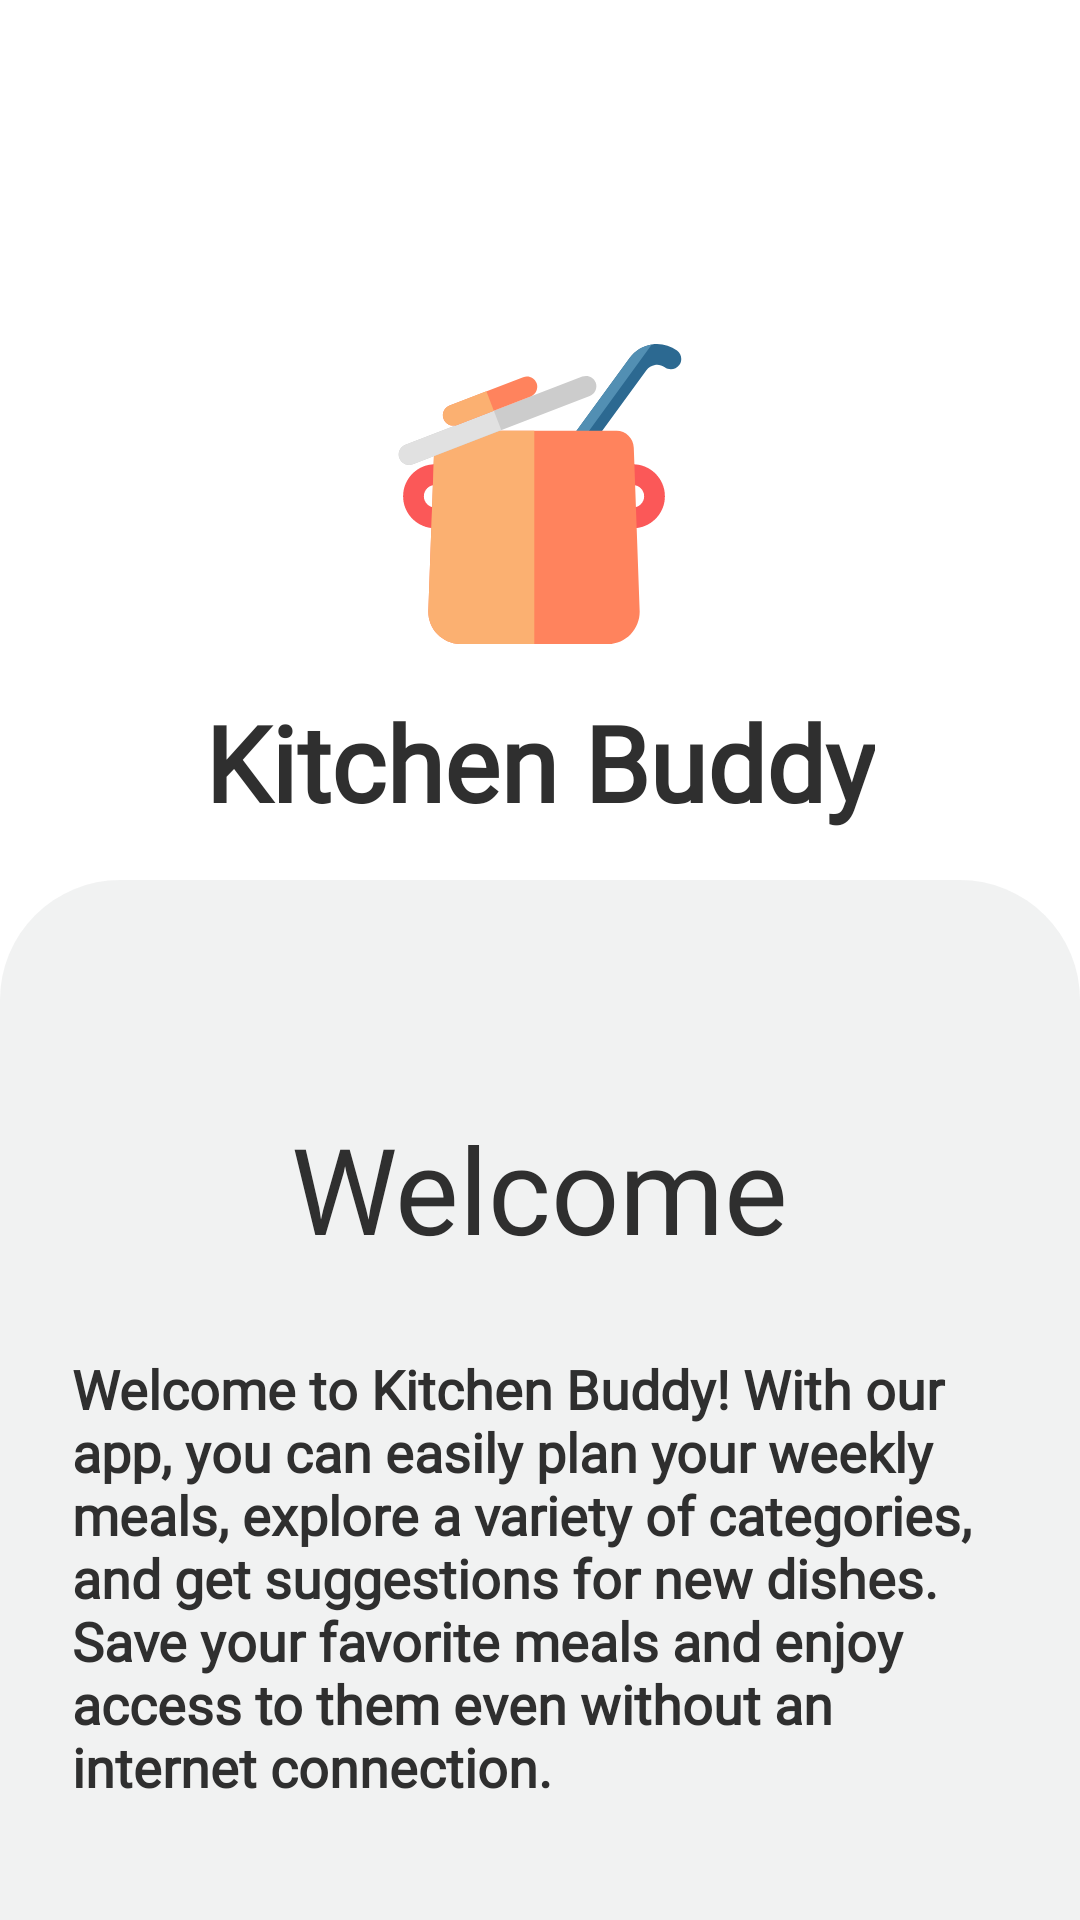

Icon bounding boxes for this 1080x1920 phone screenshot, format (x1, y1, x2, y2):
kitchen pack cook: (399, 344, 682, 644)
